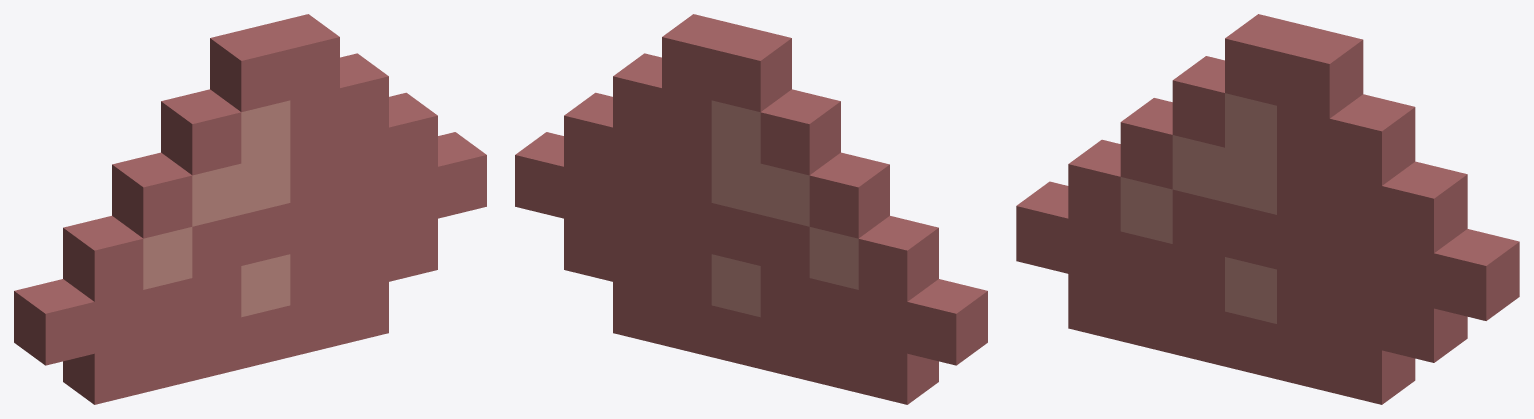
File: item_redstone.glb
3 views of the same model, side by side, from view 1: azimuth 30°, elevation 25°; view 2: azimuth 150°, elevation 25°; view 3: azimuth 330°, elevation 25° (orthographic). The views are drawn at different scales.
Parts seen in each view (by area): view 1: item_redstone; view 2: item_redstone; view 3: item_redstone.
Boxes of the visible parts, bbox=[...] form: item_redstone: bbox=[14, 14, 486, 404]; item_redstone: bbox=[515, 14, 987, 404]; item_redstone: bbox=[1016, 14, 1519, 404].
Size of the model in its own units: 1.62 by 1.08 by 0.2.
